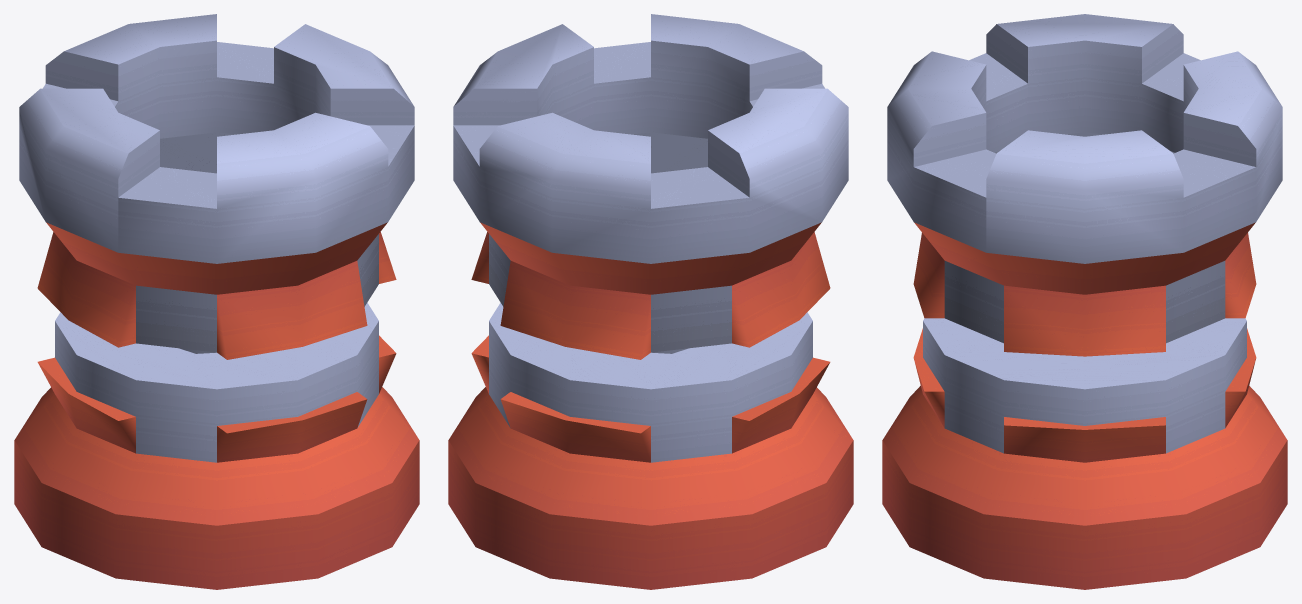
The model's file is ballista_1.glb.
3 views of the same model, side by side, from view 1: azimuth 30°, elevation 25°; view 2: azimuth 150°, elevation 25°; view 3: azimuth 270°, elevation 25° (orthographic).
Visible parts, largest first — view 1: ballista_1; view 2: ballista_1; view 3: ballista_1.
Boxes of the visible parts, <box> form: ballista_1: <box>14,14,419,589</box>; ballista_1: <box>448,14,853,589</box>; ballista_1: <box>882,14,1287,589</box>.
Size of the model in its own units: 1 by 1.13 by 1.
2 materials, 2 textured.
